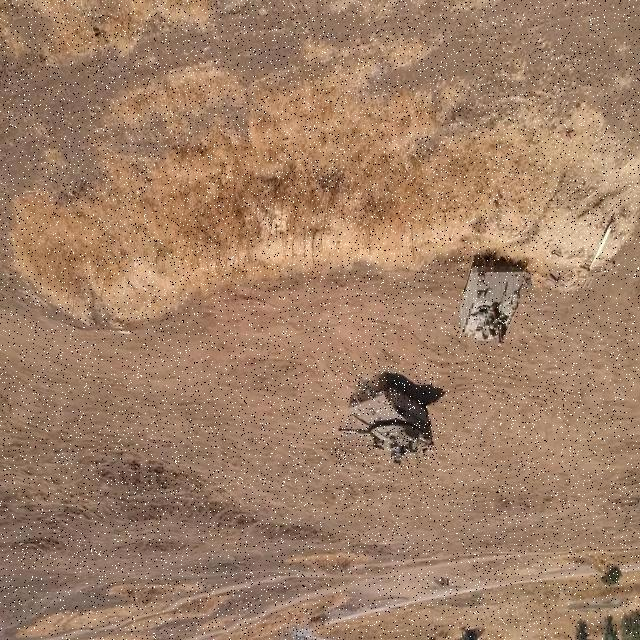MIL_MBT: (334, 364, 438, 468)
